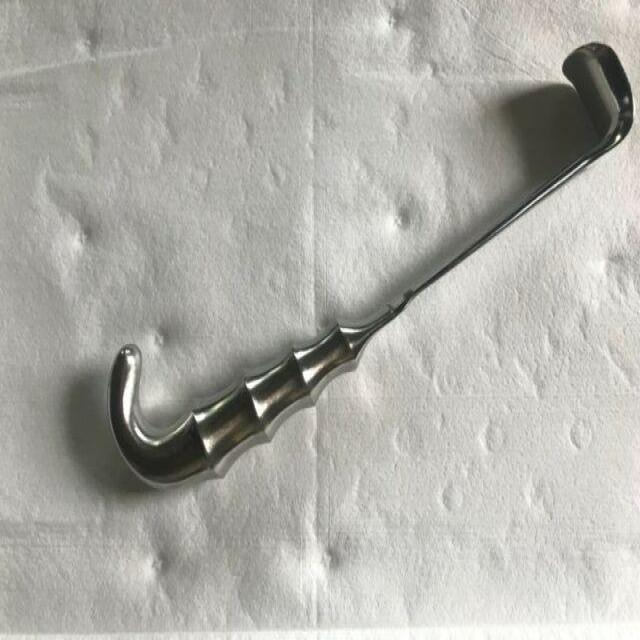Richardson: (106, 36, 636, 497)
